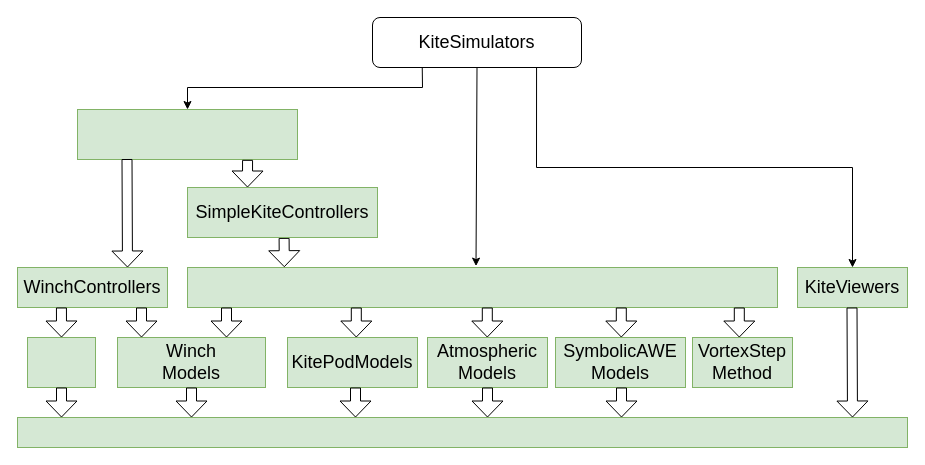
Some shapes in this 925 by 465 pixel diagram are drawn without their labels. Each missing label, with the centre of its shape:
"KiteControllers" belongs at point 187,134.
"KiteModels" belongs at point 482,287.
"KiteUtils" belongs at point 462,432.
"Tether Models" belongs at point 61,362.
